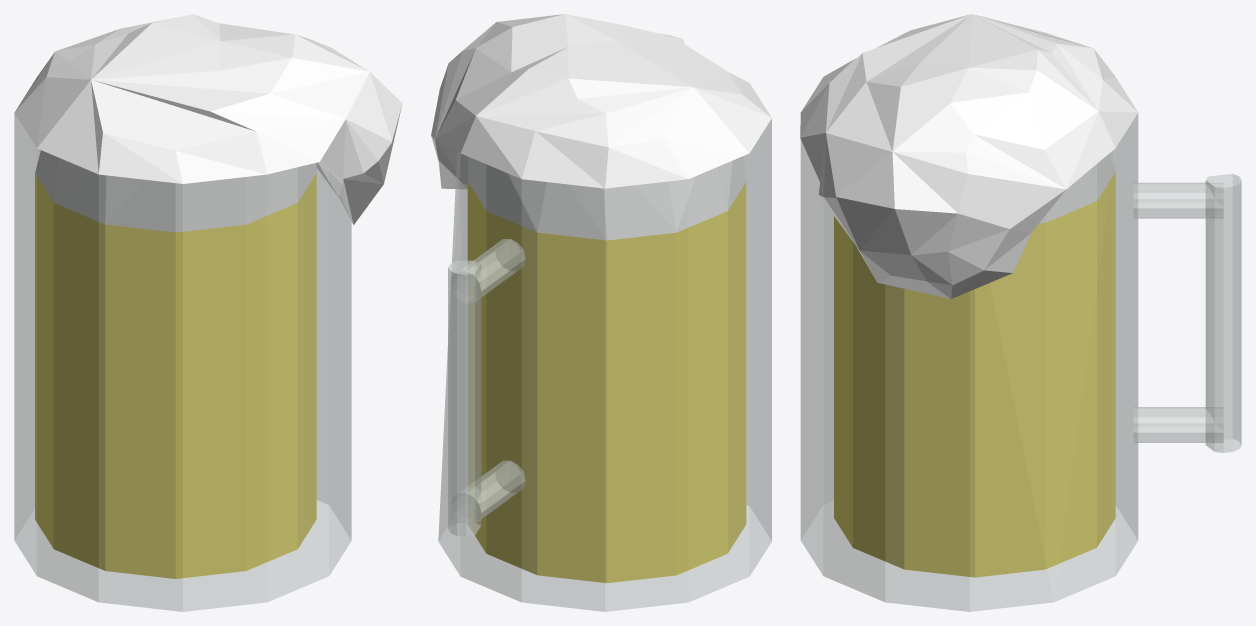
The model's file is beer.glb.
3 views of the same model, side by side, from view 1: azimuth 30°, elevation 25°; view 2: azimuth 150°, elevation 25°; view 3: azimuth 270°, elevation 25° (orthographic).
Visible parts, largest first — view 1: group1089337075, group1947001856, group2121909404; view 2: group1089337075, group1947001856, group2121909404; view 3: group1089337075, group1947001856, group2121909404.
Part boxes in pixels (<box>): group1089337075: <box>14,113,351,611</box>; group1947001856: <box>35,173,316,578</box>; group2121909404: <box>14,14,402,232</box>; group1089337075: <box>438,119,771,611</box>; group1947001856: <box>467,182,746,583</box>; group2121909404: <box>431,14,771,240</box>; group1089337075: <box>800,113,1241,611</box>; group1947001856: <box>834,172,1115,577</box>; group2121909404: <box>800,14,1137,298</box>.
Bounding box in the file's own units: 0.1686 × 0.2415 × 0.1963.
